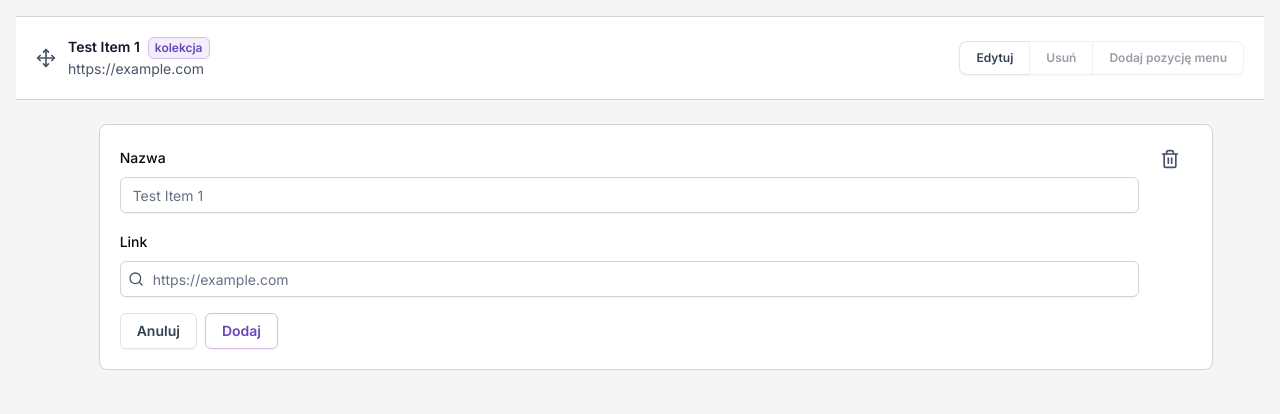
Scenario: NavigationItem › Walidacja formularzy › wymaga nazwy elementu
Clear the field with placeholder "np. Promocje": (629, 195) x1=120 y1=177 x2=1139 y2=213
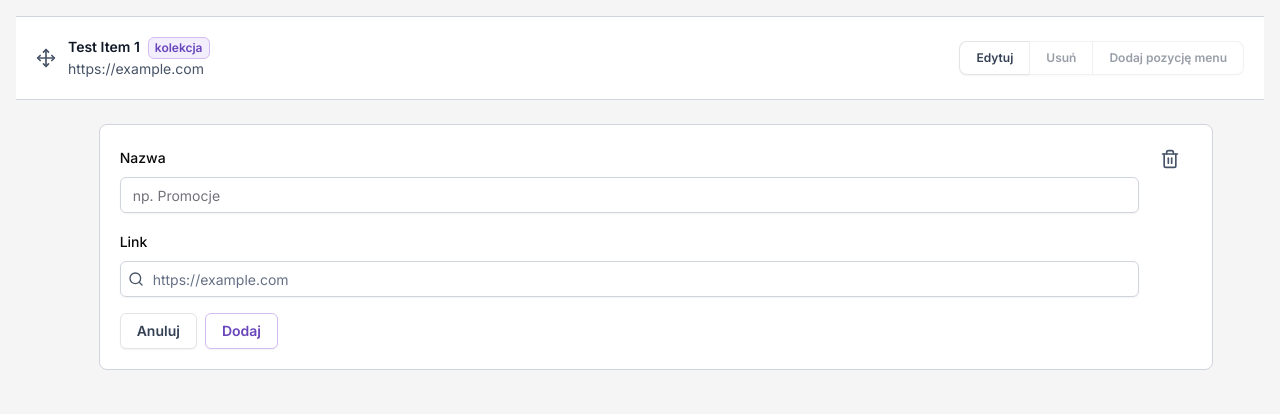
Submit the form, box x1=120 y1=145 x2=1139 y2=349
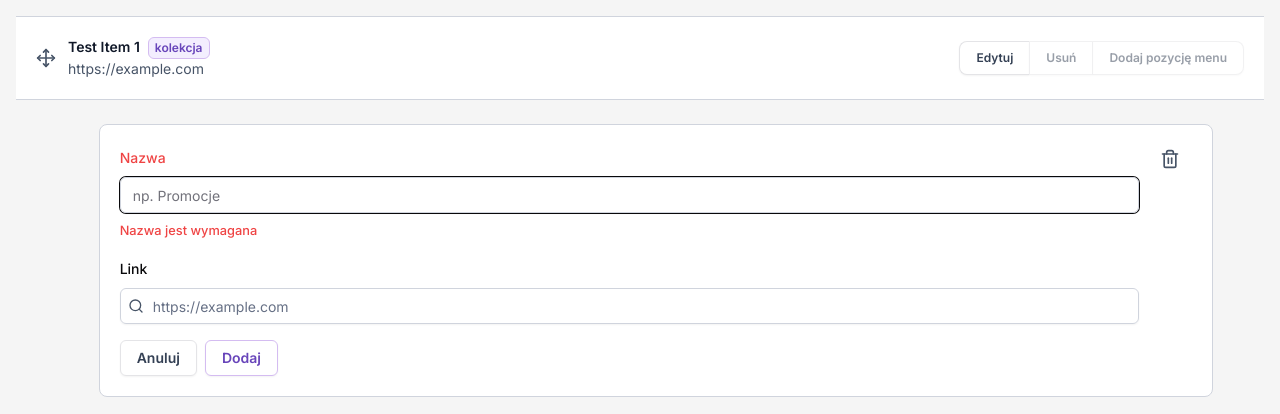
Result: the text "Nazwa jest wymagana" is shown at x1=120 y1=223 x2=257 y2=238
